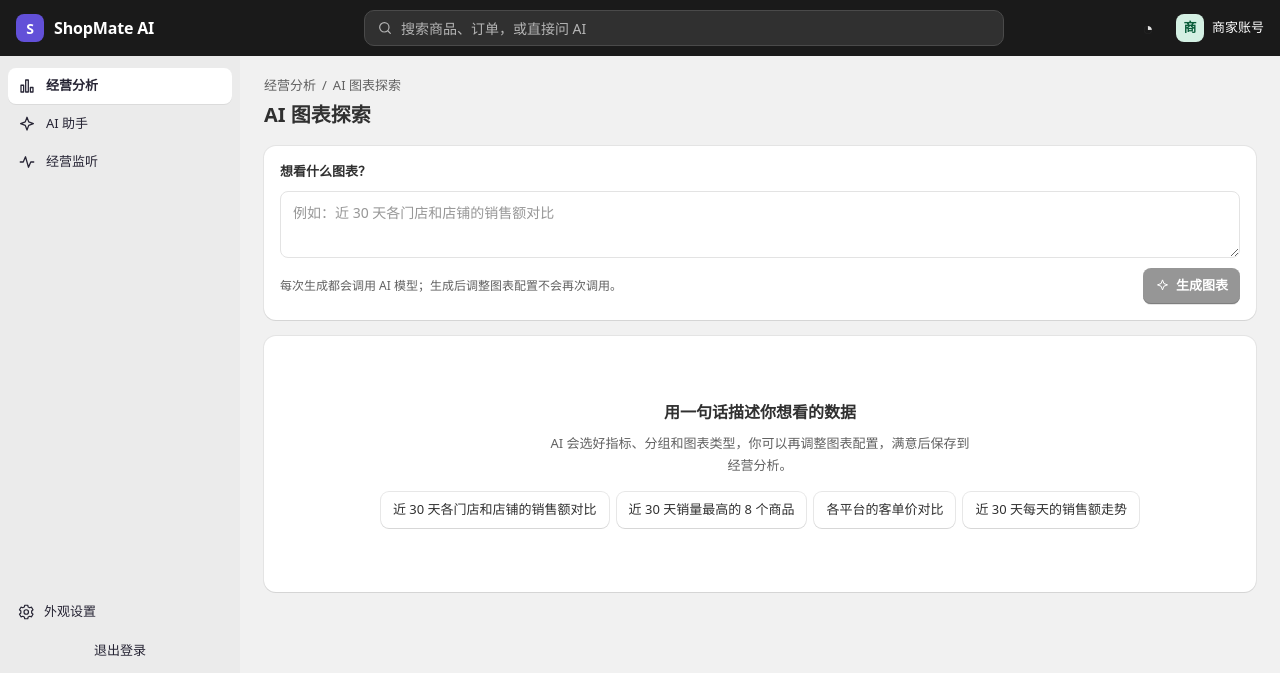
Test case: ExploreClient › generates a chart, shows its data table and config
Step 1. Type "各门店销售额对比" into the text box labelled "想看什么图表？" → (760, 224), box [280,191,1240,258]
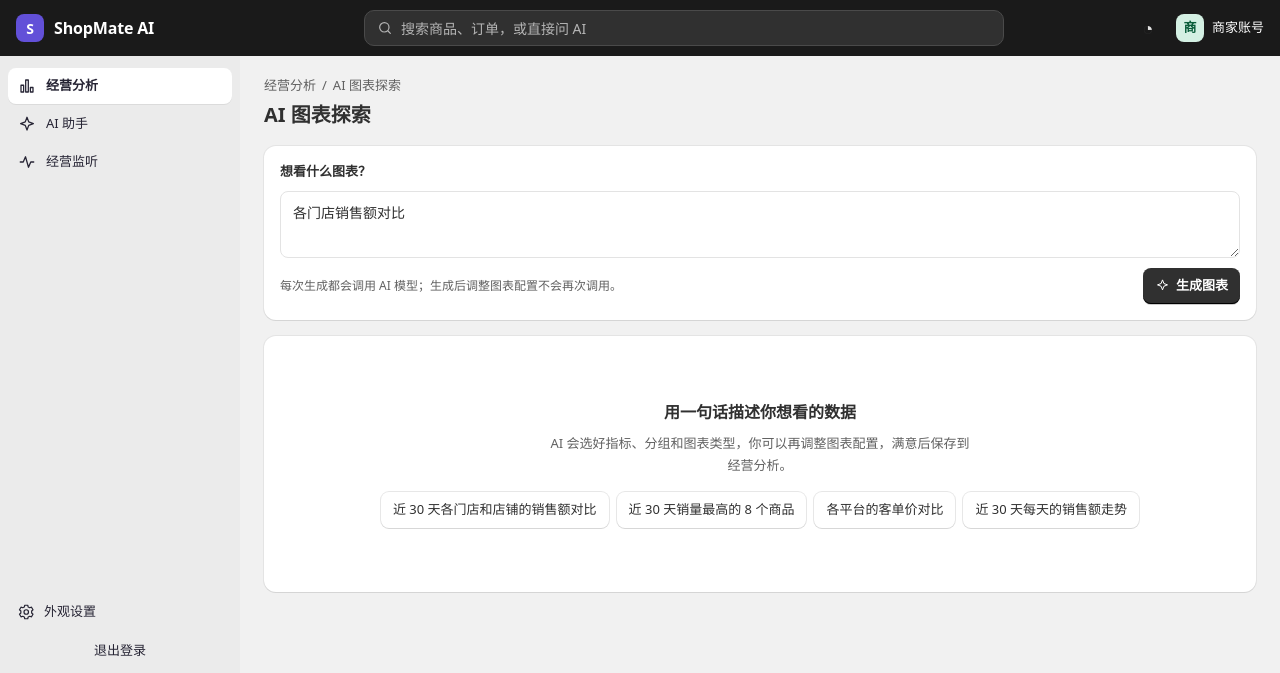
Step 2. Click the button "生成图表" → (1192, 286), box [1143,268,1240,304]
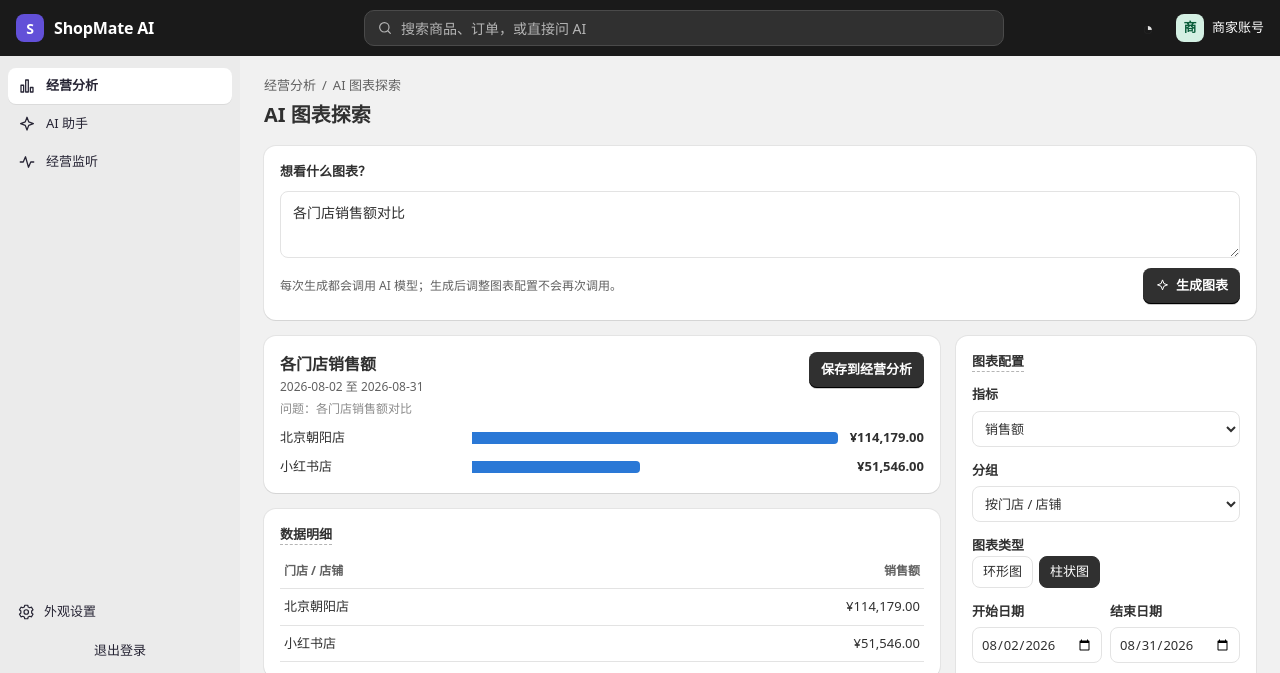
Expected: the column heading "北京朝阳店" is shown, [280,589,584,625]
Expected: the text "¥114,179.00" is shown, [584,589,924,625]
